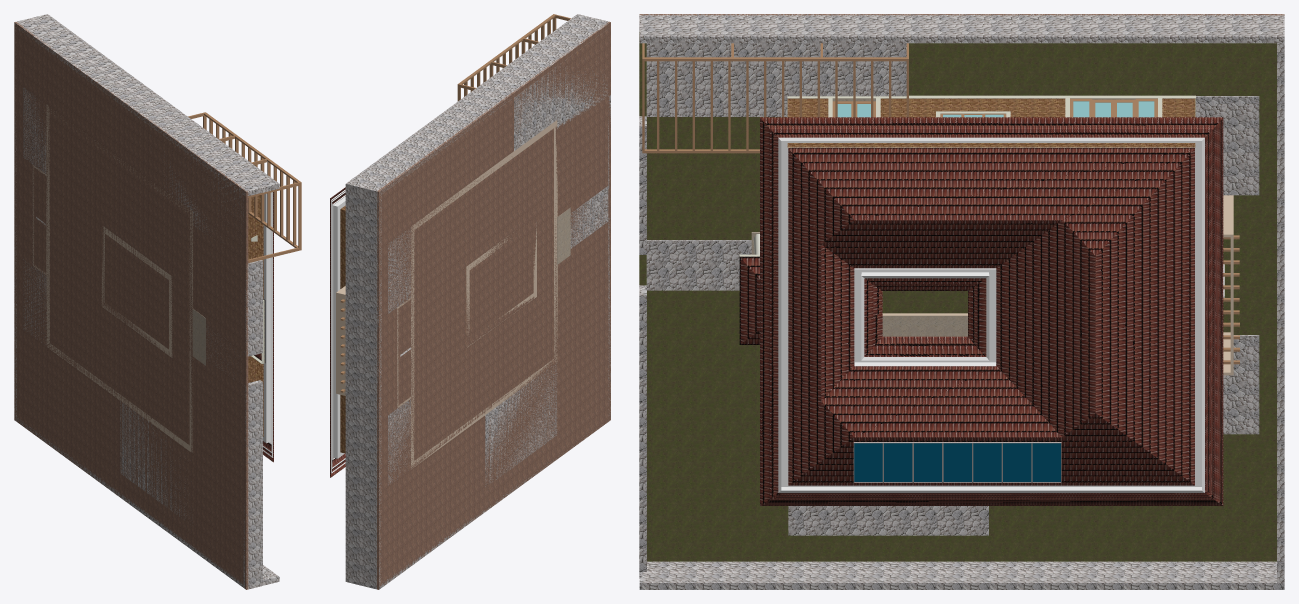
Rendered from house.gltf.
3 views of the same model, side by side, from view 1: azimuth 30°, elevation 25°; view 2: azimuth 150°, elevation 25°; view 3: azimuth 270°, elevation 25° (orthographic). The views are drawn at different scales.
Visible parts, largest first — view 1: house; view 2: house; view 3: house.
Boxes of the visible parts, bbox=[...] form: house: bbox=[14, 14, 301, 589]; house: bbox=[330, 14, 610, 589]; house: bbox=[639, 14, 1284, 589].
Bounding box in the file's own units: 5.66 × 20.54 × 21.71.
Materials: 28 (16 with a texture image).
